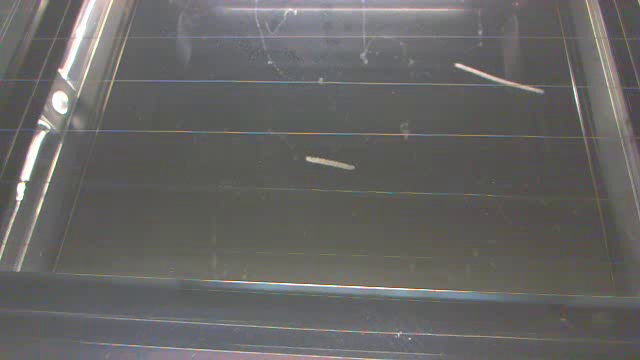alpha: (452, 62, 545, 95), (305, 153, 358, 172)
